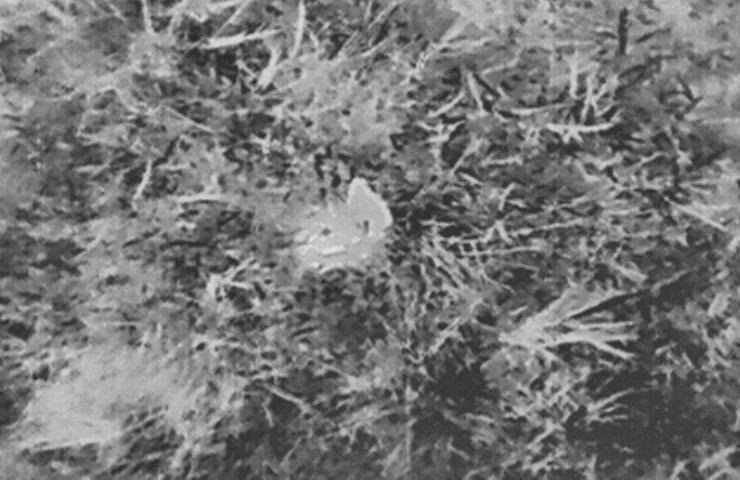landmines: (281, 179, 396, 273)
